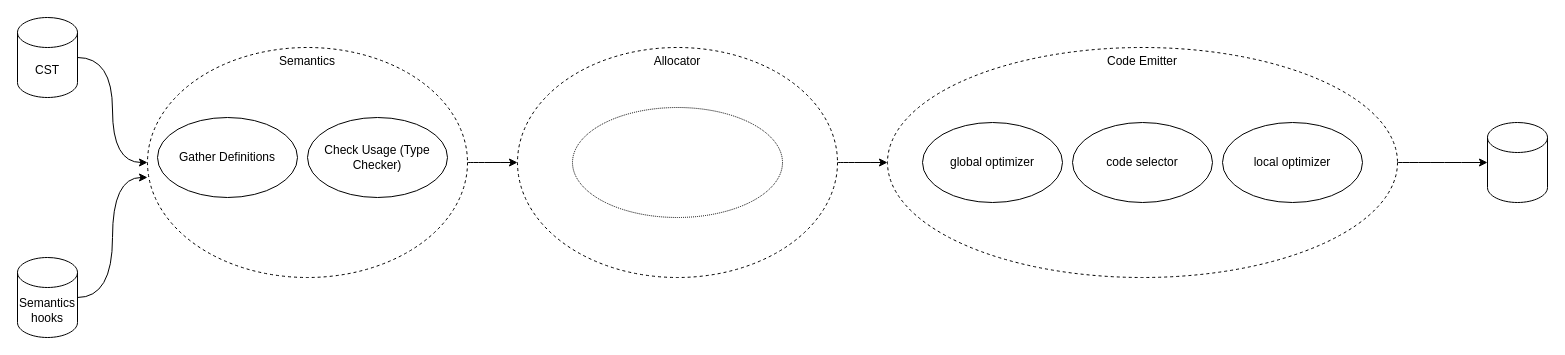
Image size: 1565x355. Some labels were removed from this diagram. The centre of each missing label's shape, as x and y in pixels:
EXE: the point at 1517,162
globals, locals, temps, parameters, return values, registers, stack, heap: the point at 677,162
